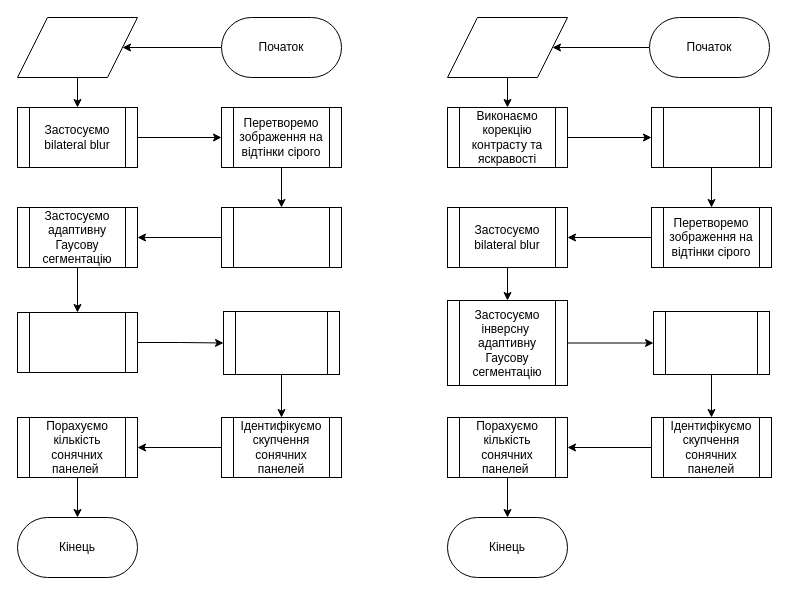
This 789x595 diagram has some shape labels left out. Each missing label, with the centre of its shape:
"Використаємо морфологічне фільтрування" belongs at point (711, 342).
"Додамо Гаусовий шум" belongs at point (281, 237).
"Додамо Медіанний блюр" belongs at point (77, 342).
"Застосуємо k-means кластеризацію" belongs at point (711, 137).
"Застосуємо морфологічне розширення" belongs at point (281, 342).
"Нечітке зображення" belongs at point (507, 47).
"Чітке зображення" belongs at point (77, 47).
